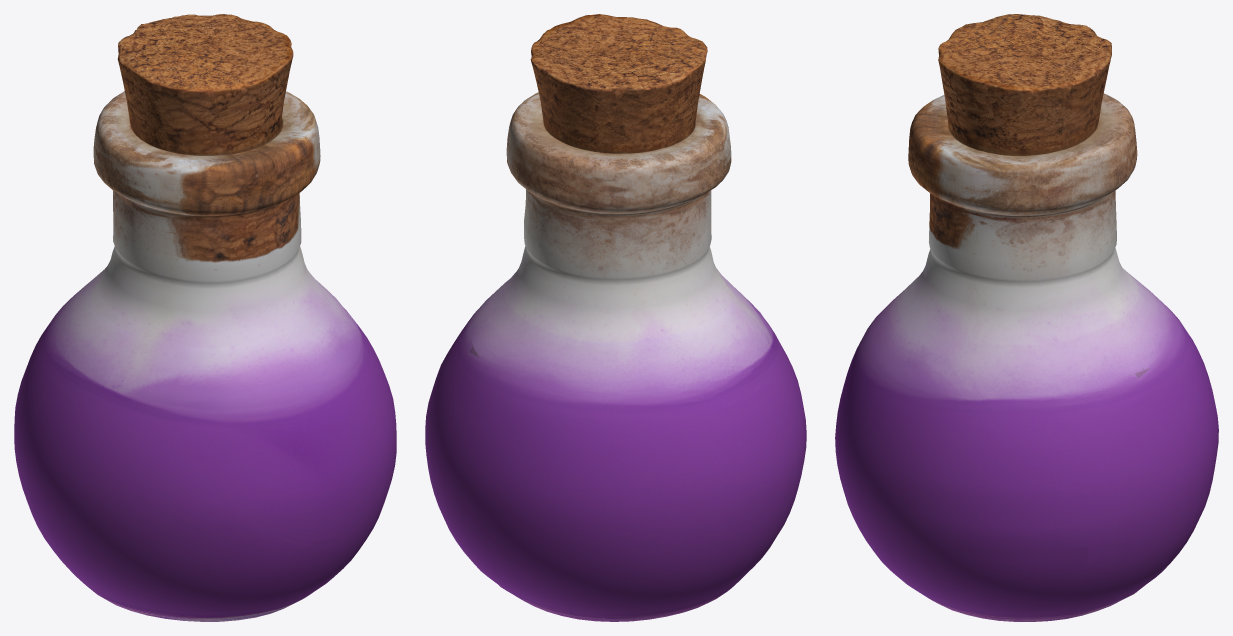
Rendered from HEAL_POTION.glb.
3 renders of one model, left to right at view 1: azimuth 30°, elevation 25°; view 2: azimuth 150°, elevation 25°; view 3: azimuth 270°, elevation 25°, orthographic.
Visible parts, largest first — view 1: tripo_4523320e_c9a9_4504_9091_c77c51c192ec; view 2: tripo_4523320e_c9a9_4504_9091_c77c51c192ec; view 3: tripo_4523320e_c9a9_4504_9091_c77c51c192ec.
Boxes of the visible parts, box(x1,y1,x2,y2) form: tripo_4523320e_c9a9_4504_9091_c77c51c192ec: box(14, 14, 396, 621); tripo_4523320e_c9a9_4504_9091_c77c51c192ec: box(425, 14, 806, 621); tripo_4523320e_c9a9_4504_9091_c77c51c192ec: box(835, 14, 1218, 621).
Bounding box in the file's own units: 0.6431 × 0.9995 × 0.6479.
Materials: 1 (1 with a texture image).
